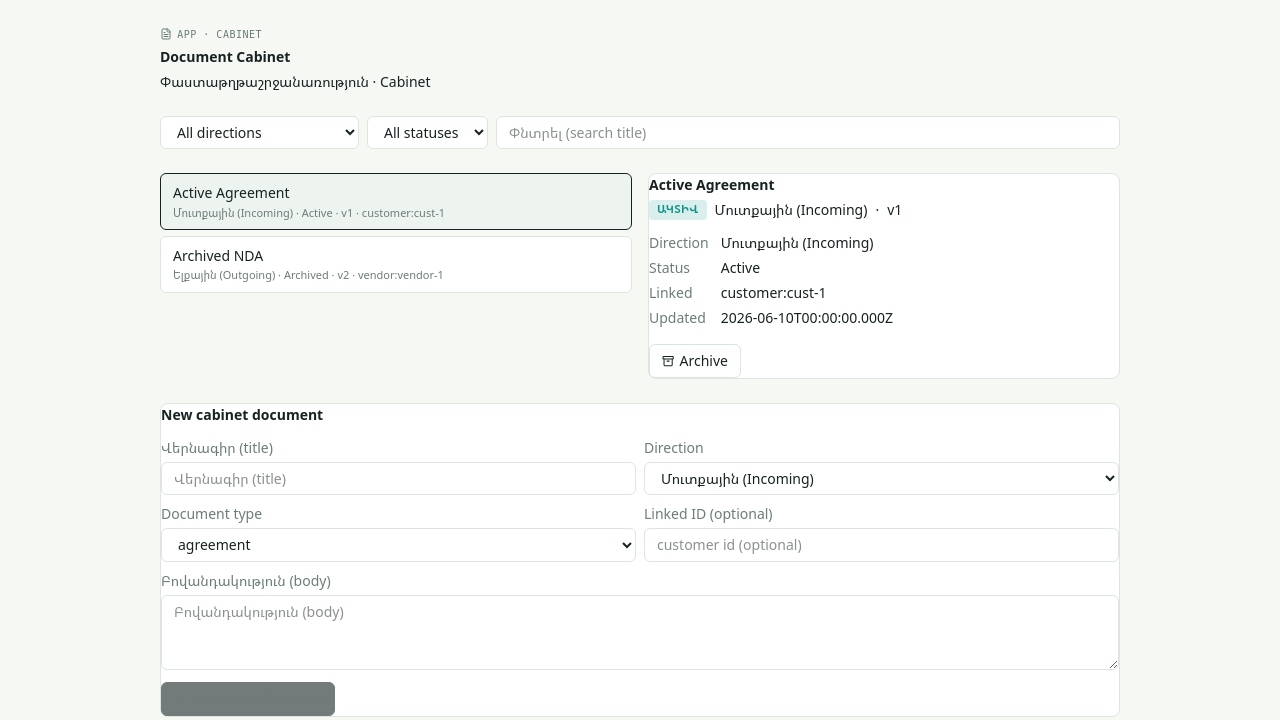
Cabinet — create form › renders a role='alert' error when postJson rejects
In the field labelled "Վերնագիր (title)": (398, 478) x1=161 y1=462 x2=636 y2=495, type "Title Long Enough"
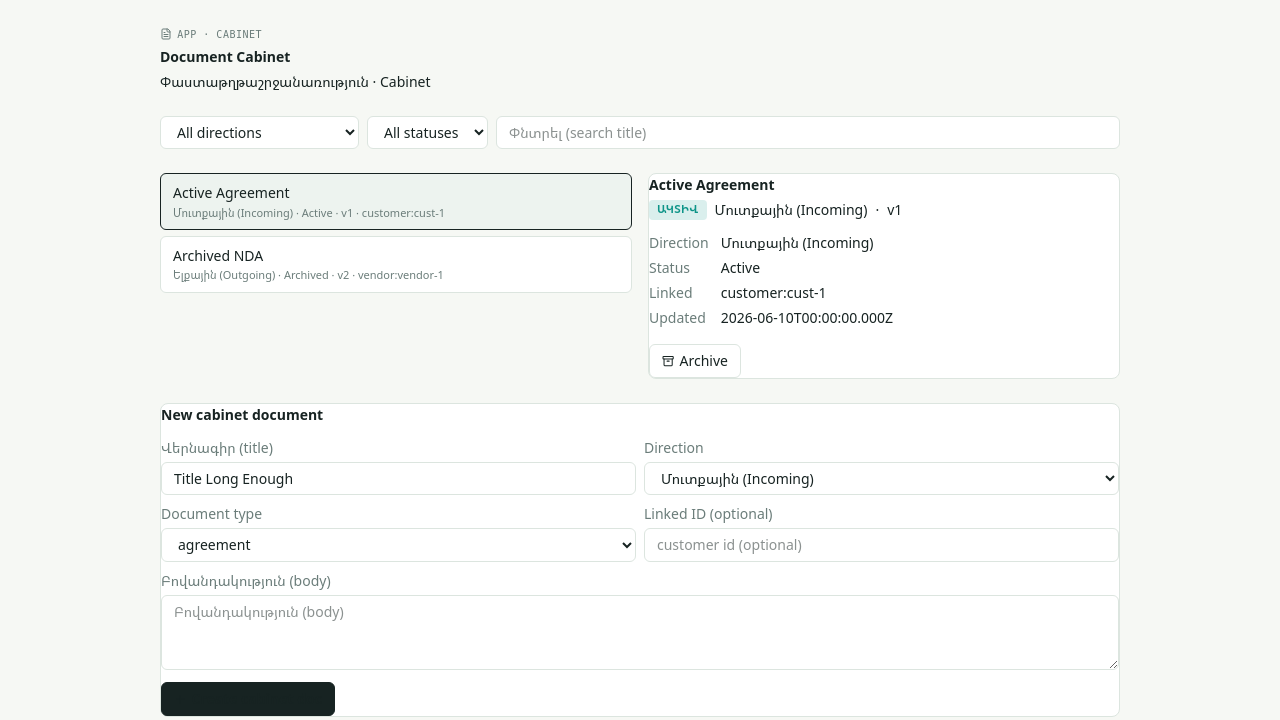
Click the button with test id "cabinet-create-submit": (248, 699) x1=161 y1=682 x2=335 y2=716
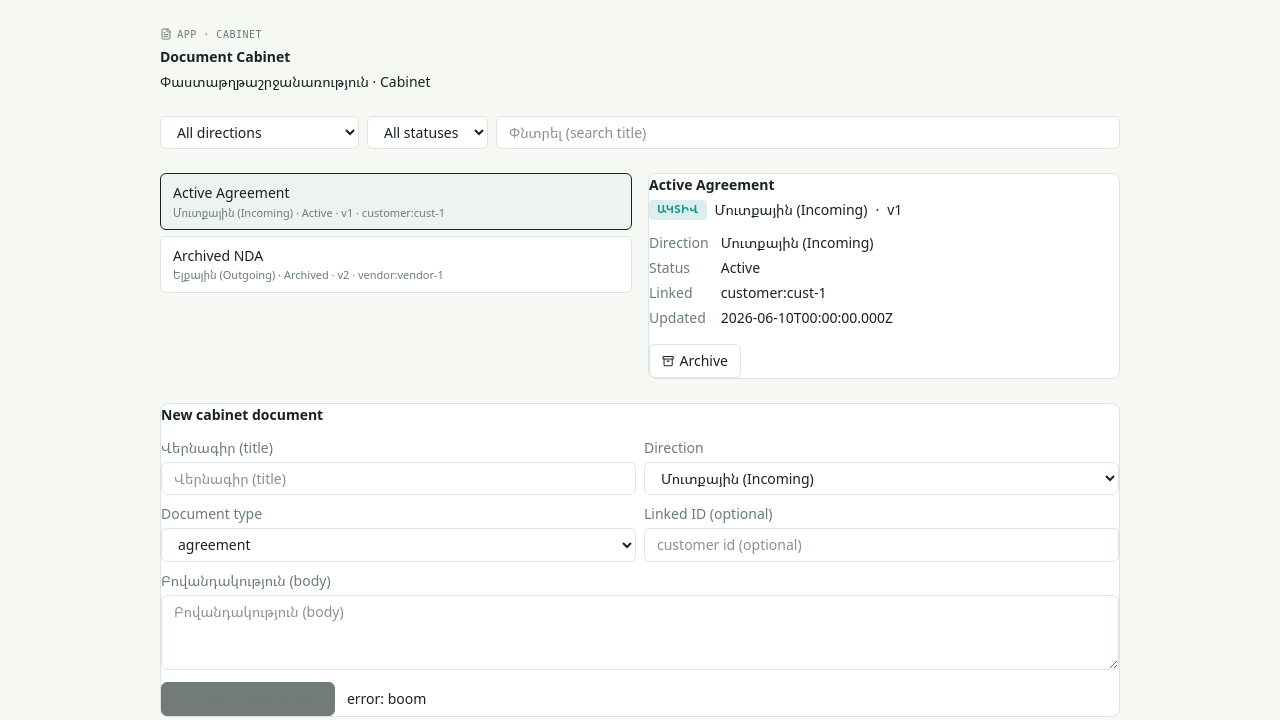
Expected: the message shows "boom", x1=388 y1=689 x2=426 y2=708
